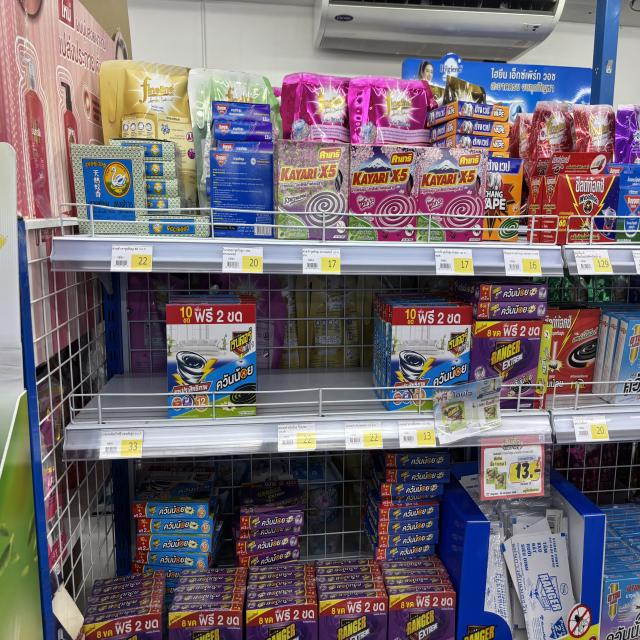empty_shelf: (257, 293, 387, 414), (70, 295, 170, 424)
